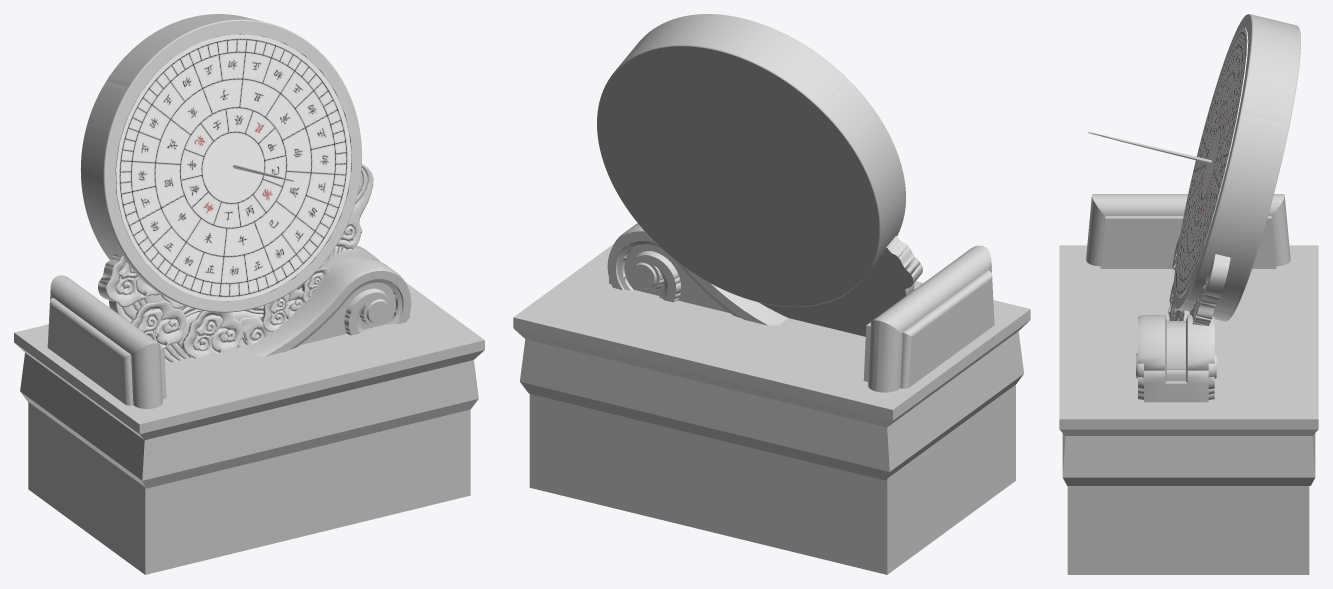
The picture shows the model from 3 angles, left to right: view 1: azimuth 30°, elevation 25°; view 2: azimuth 150°, elevation 25°; view 3: azimuth 270°, elevation 25°; orthographic projection. The views are drawn at different scales.
Parts seen in each view (by area): view 1: 立方体; view 2: 立方体; view 3: 立方体.
Part boxes in pixels (x1=…): 立方体: x1=14, y1=14, x2=484, y2=574; 立方体: x1=513, y1=14, x2=1030, y2=574; 立方体: x1=1059, y1=14, x2=1318, y2=574.
Bounding box in the file's own units: 2.34 × 2.9 × 1.47.
Materials: 2 (1 with a texture image).
